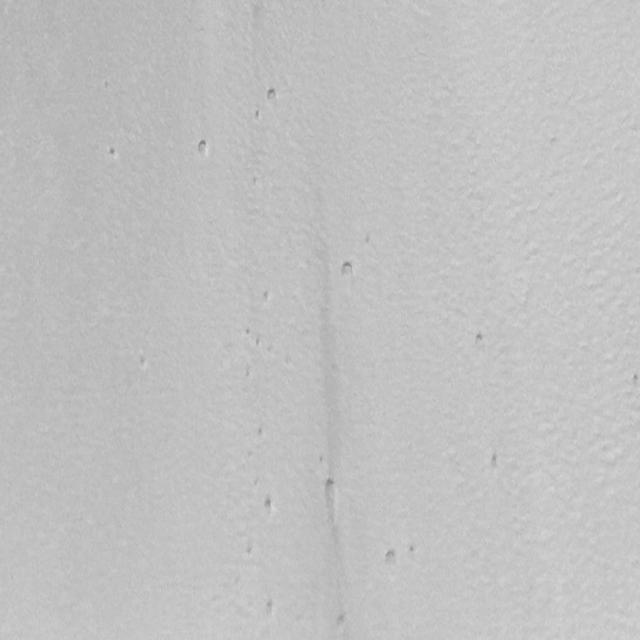pin holes: (318, 477, 342, 521), (337, 258, 359, 284), (381, 546, 402, 572), (260, 494, 279, 518), (485, 450, 504, 474), (195, 136, 212, 160), (265, 86, 282, 107), (473, 330, 490, 350), (264, 598, 278, 620), (135, 355, 151, 374), (335, 611, 350, 630), (256, 426, 269, 444), (108, 146, 122, 162), (407, 543, 421, 559), (243, 544, 256, 560), (242, 326, 256, 340), (253, 108, 265, 124), (316, 455, 328, 471), (261, 291, 273, 306), (630, 372, 639, 390)
